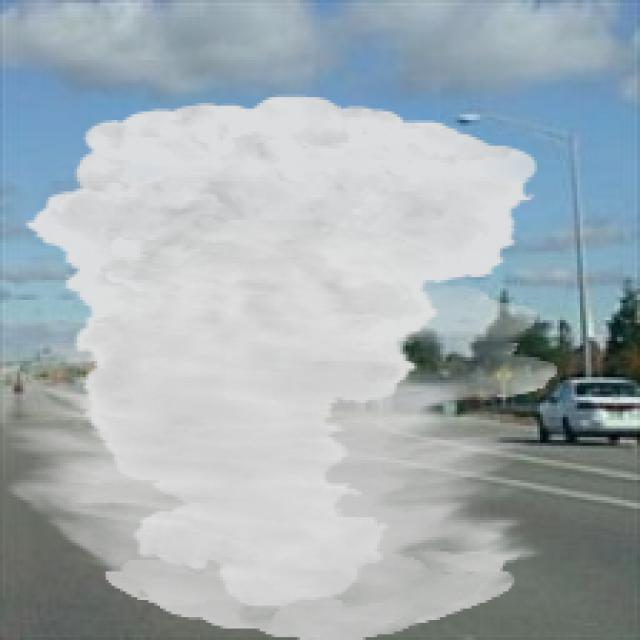Smoke: (3, 94, 560, 637)
